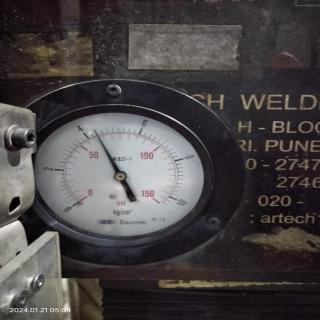gauge: (11, 99, 219, 277), (63, 196, 83, 212), (114, 170, 126, 182), (160, 200, 173, 210), (90, 127, 98, 135)
